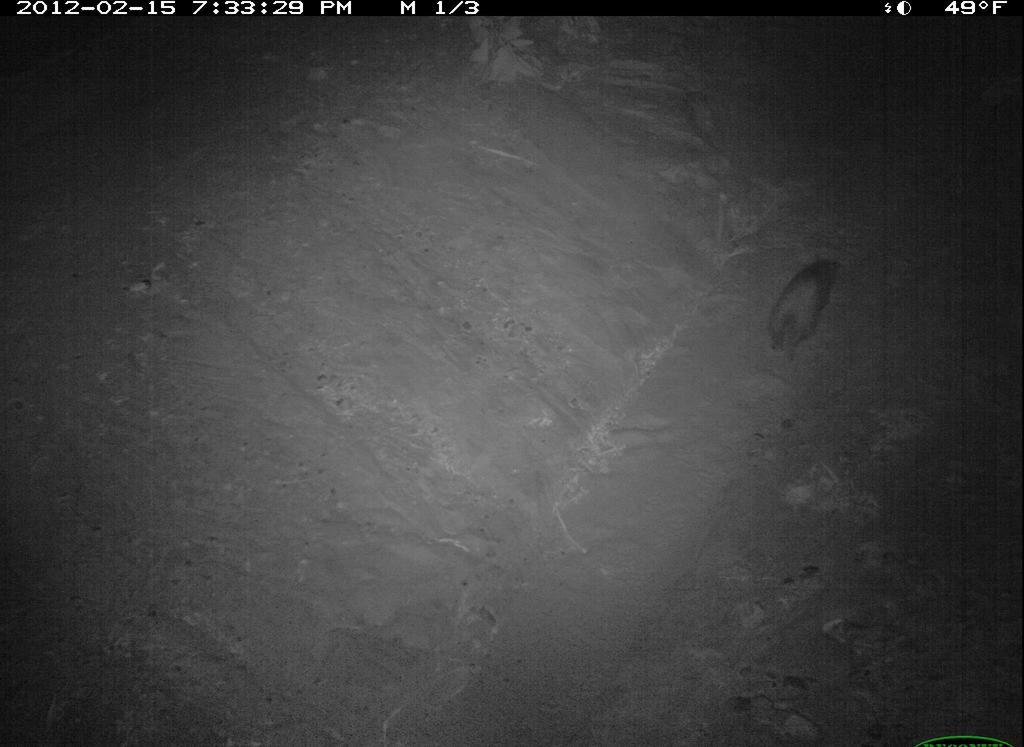opossum: (760, 244, 857, 367)
